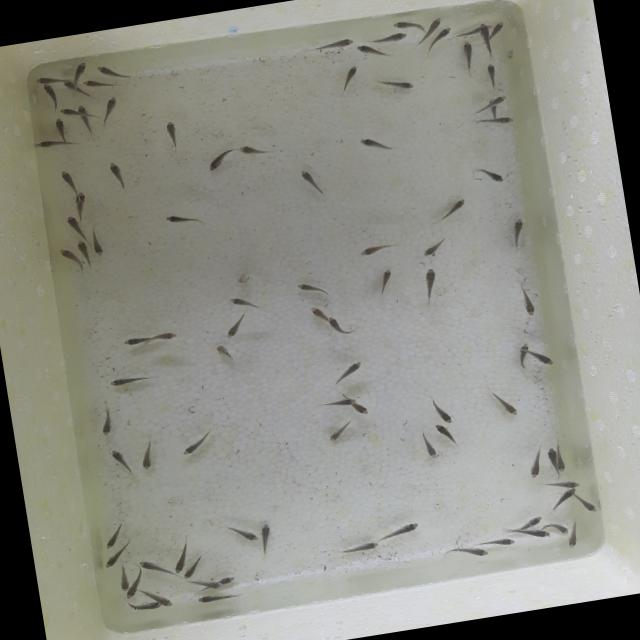fingerling: (484, 386, 522, 422), (174, 429, 218, 460), (504, 212, 538, 249), (105, 372, 155, 392), (331, 358, 364, 388), (433, 196, 471, 221), (448, 541, 490, 563), (160, 209, 206, 229), (105, 156, 130, 192), (136, 435, 160, 472), (202, 149, 236, 175), (314, 36, 358, 56), (414, 431, 442, 462), (92, 402, 115, 439), (384, 520, 426, 540), (376, 76, 420, 95), (123, 570, 149, 602), (562, 516, 588, 548), (475, 162, 507, 188), (546, 489, 580, 513), (418, 268, 441, 303), (418, 234, 451, 258), (474, 19, 496, 55), (222, 312, 250, 340), (170, 540, 193, 574), (360, 132, 394, 155), (375, 266, 399, 298), (338, 63, 362, 95), (471, 114, 516, 131), (433, 421, 458, 451), (230, 294, 267, 314), (298, 278, 335, 298), (196, 590, 237, 608), (101, 524, 128, 551), (98, 98, 125, 125), (522, 448, 544, 481), (320, 393, 360, 411), (29, 136, 74, 152), (458, 41, 480, 73), (343, 539, 382, 557), (356, 240, 395, 258), (325, 422, 354, 446), (326, 314, 355, 338), (96, 64, 134, 82), (354, 42, 392, 60), (108, 444, 130, 474), (547, 476, 583, 494), (374, 30, 410, 48), (430, 398, 453, 426), (529, 351, 561, 371), (512, 338, 533, 368), (298, 168, 322, 194), (102, 548, 130, 570), (428, 28, 457, 49), (256, 524, 276, 554), (150, 587, 177, 609), (521, 289, 541, 318), (132, 557, 164, 575), (522, 526, 554, 544), (42, 84, 62, 112), (234, 525, 260, 546), (192, 576, 225, 592), (237, 140, 270, 156), (76, 105, 92, 137), (121, 332, 151, 349), (58, 169, 80, 192), (183, 556, 204, 580), (574, 496, 599, 516), (164, 121, 183, 147), (54, 244, 76, 266), (129, 601, 160, 616), (64, 81, 88, 100), (486, 535, 516, 550), (544, 446, 560, 474), (80, 77, 112, 91), (89, 232, 106, 258), (421, 18, 441, 40), (213, 343, 237, 361), (153, 328, 179, 344), (72, 59, 90, 82), (75, 240, 92, 264), (451, 26, 480, 40), (66, 214, 83, 237), (116, 568, 132, 592), (554, 442, 566, 473), (518, 514, 544, 528), (392, 18, 418, 32), (52, 117, 67, 137), (350, 402, 370, 416), (74, 192, 88, 212), (310, 307, 330, 320), (36, 76, 64, 85), (58, 108, 80, 119), (491, 21, 507, 36), (553, 522, 570, 536), (490, 96, 508, 108)
